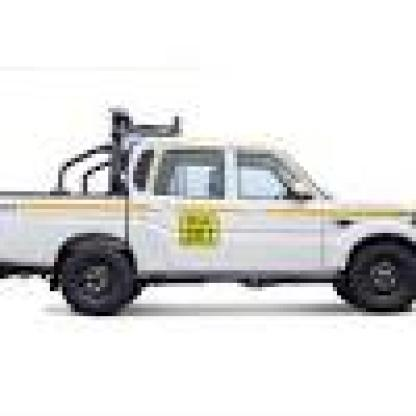light_vehicle: (37, 9, 398, 415)
